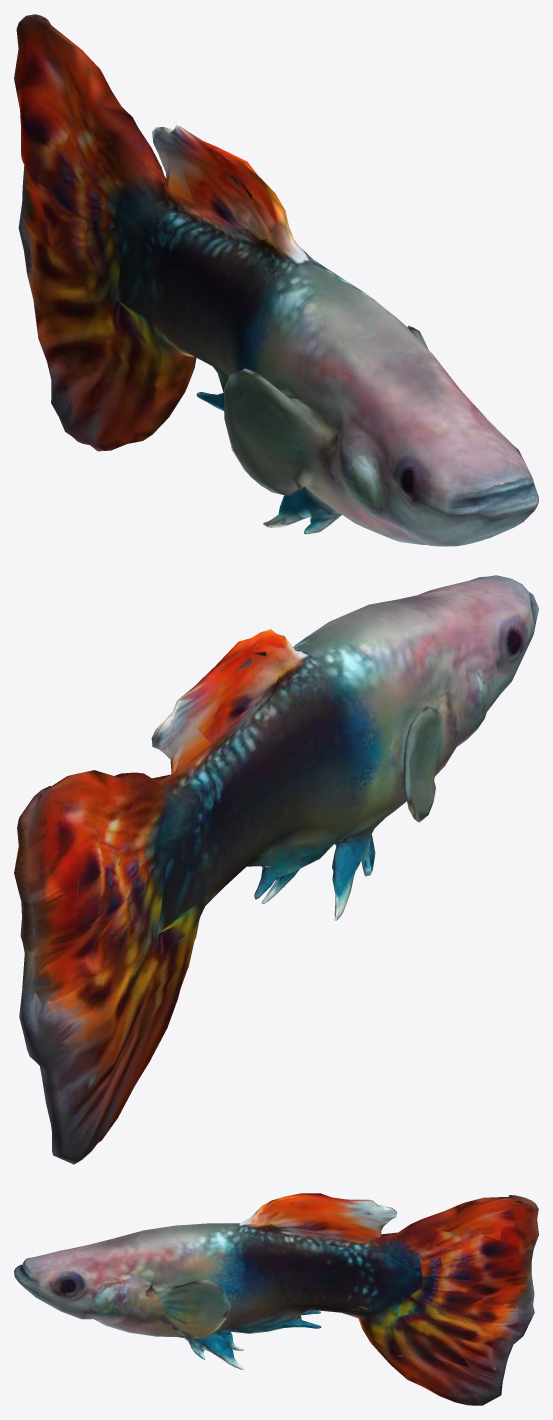
Rendered from strain-platinum_tuxedo_red_mosaic.lo.glb.
3 views of the same model, one above another, from view 1: azimuth 30°, elevation 25°; view 2: azimuth 150°, elevation 25°; view 3: azimuth 270°, elevation 25° (orthographic). The views are drawn at different scales.
Visible parts, largest first — view 1: Mesh_0.001; view 2: Mesh_0.001; view 3: Mesh_0.001.
Part boxes in pixels (x1,y1,x2,y2): Mesh_0.001: [14, 14, 538, 546]; Mesh_0.001: [14, 575, 538, 1164]; Mesh_0.001: [14, 1193, 538, 1405].
Bounding box in the file's own units: 0.00747 × 0.015 × 0.0339.
Materials: 2 (2 with a texture image).
